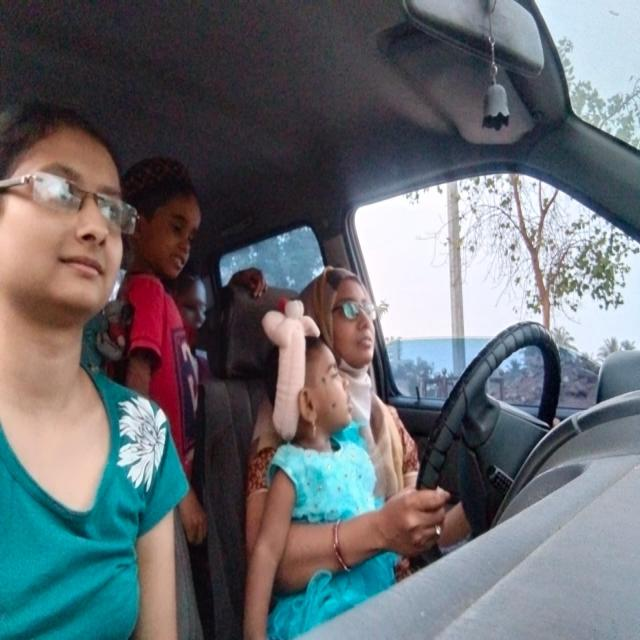child: (259, 315, 357, 433)
person: (0, 107, 129, 323), (135, 162, 199, 282), (316, 269, 389, 364), (184, 282, 213, 335)
